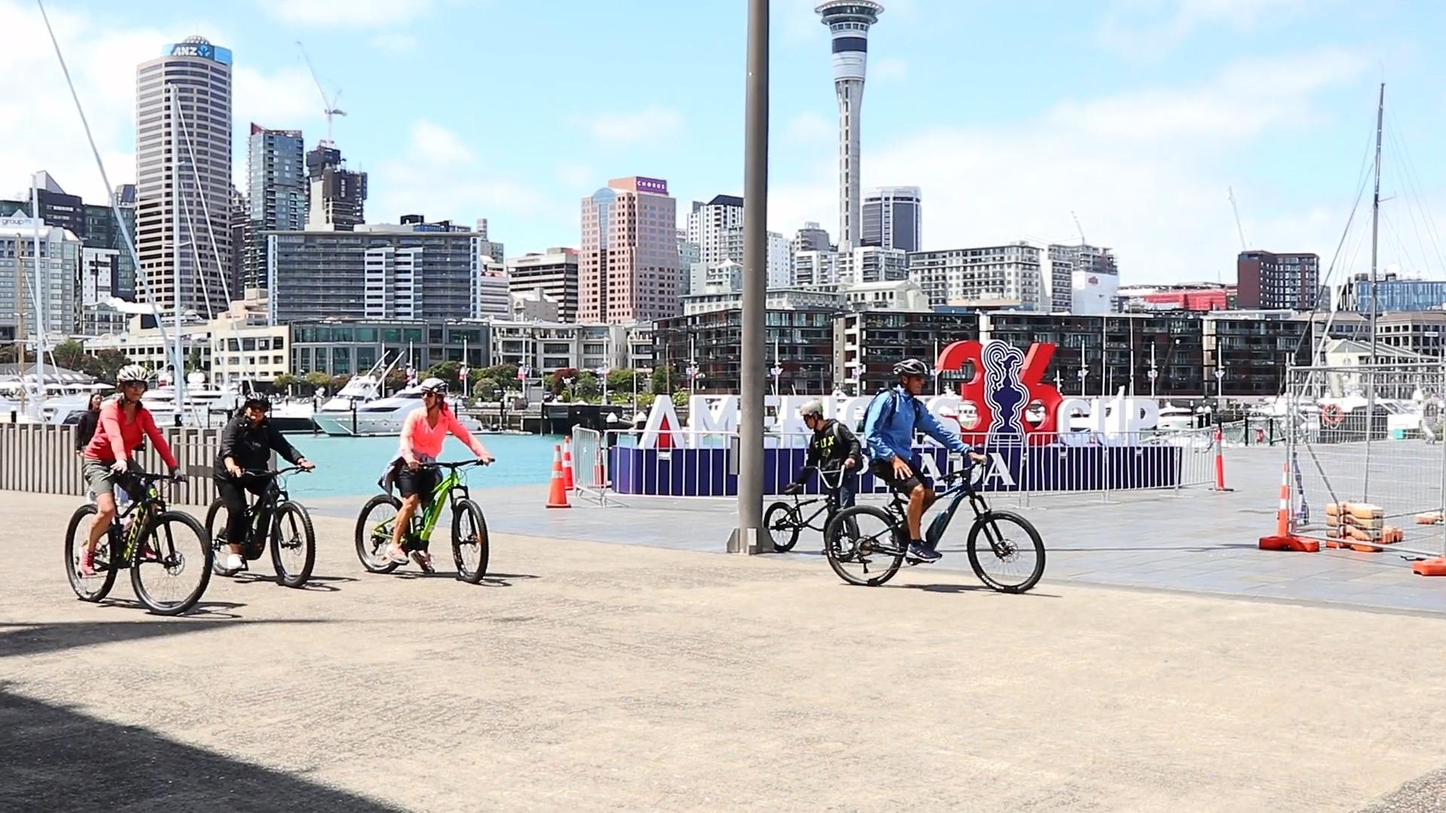bicyclist: (825, 358, 1047, 593), (65, 364, 213, 616), (354, 377, 496, 583), (204, 392, 317, 589)
helmet: (893, 359, 929, 396), (116, 365, 150, 404), (420, 377, 447, 412), (244, 391, 269, 425), (800, 399, 824, 430)
